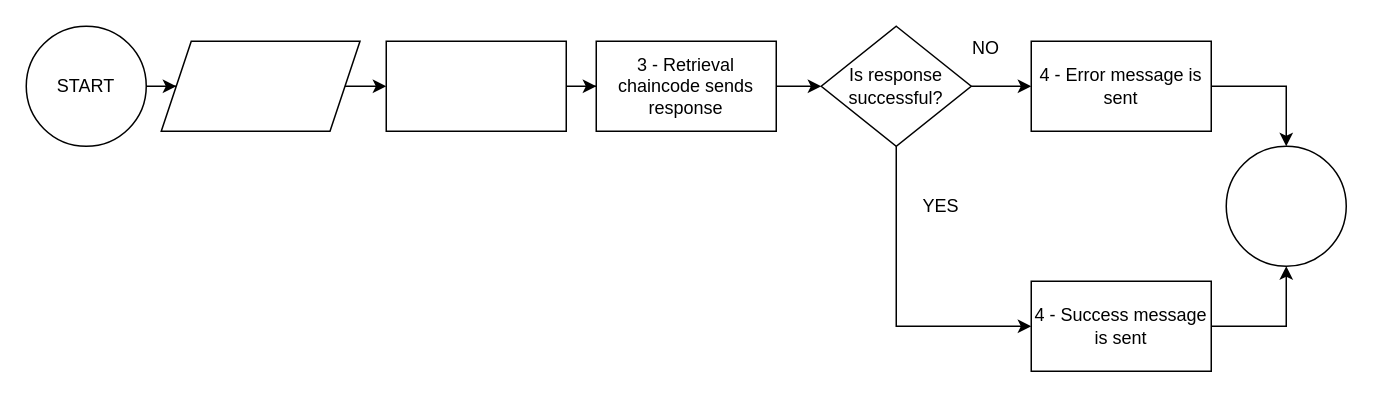
Image size: 1373x398. Some labels were removed from this diagram. The centre of each missing label's shape, as x and y in pixels:
"1- Device sends petition. Constains DeviceID" goes at (260,85).
"2 - Retrieval agent sends petition to retrieval chaincode" goes at (475,85).
"END" goes at (1285,205).
